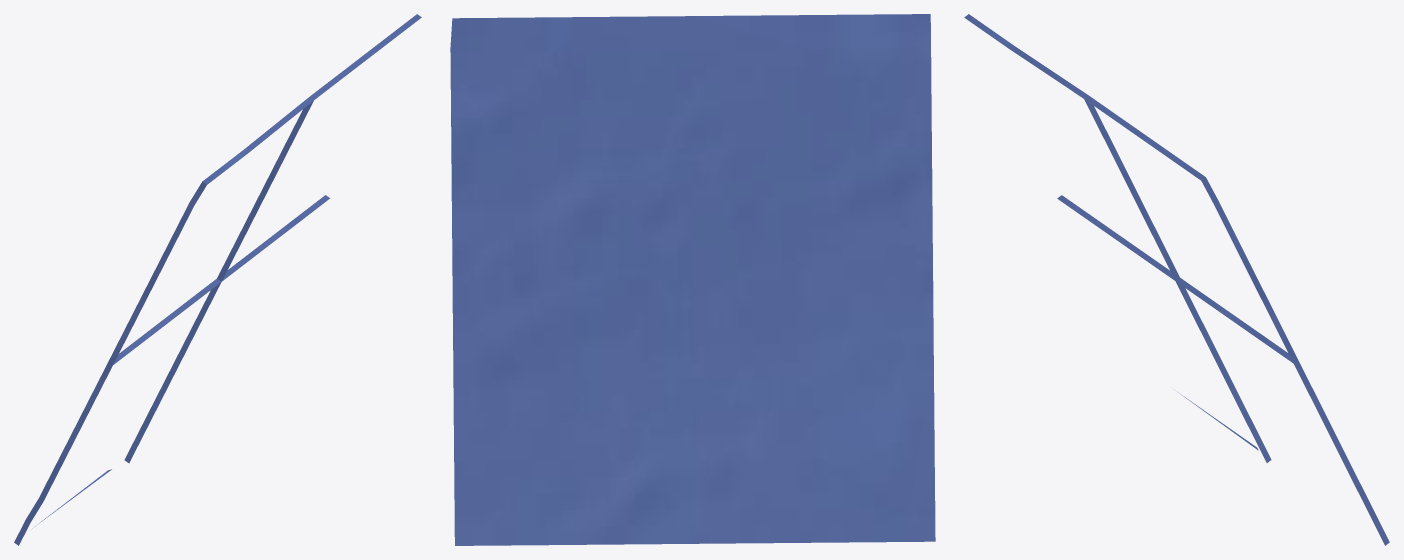
The picture shows the model from 3 angles, left to right: view 1: azimuth 30°, elevation 25°; view 2: azimuth 150°, elevation 25°; view 3: azimuth 270°, elevation 25°; orthographic projection. The views are drawn at different scales.
Size of the model in its own units: 19679 by 17837 by 16641.
Materials: 1 (1 with a texture image).
